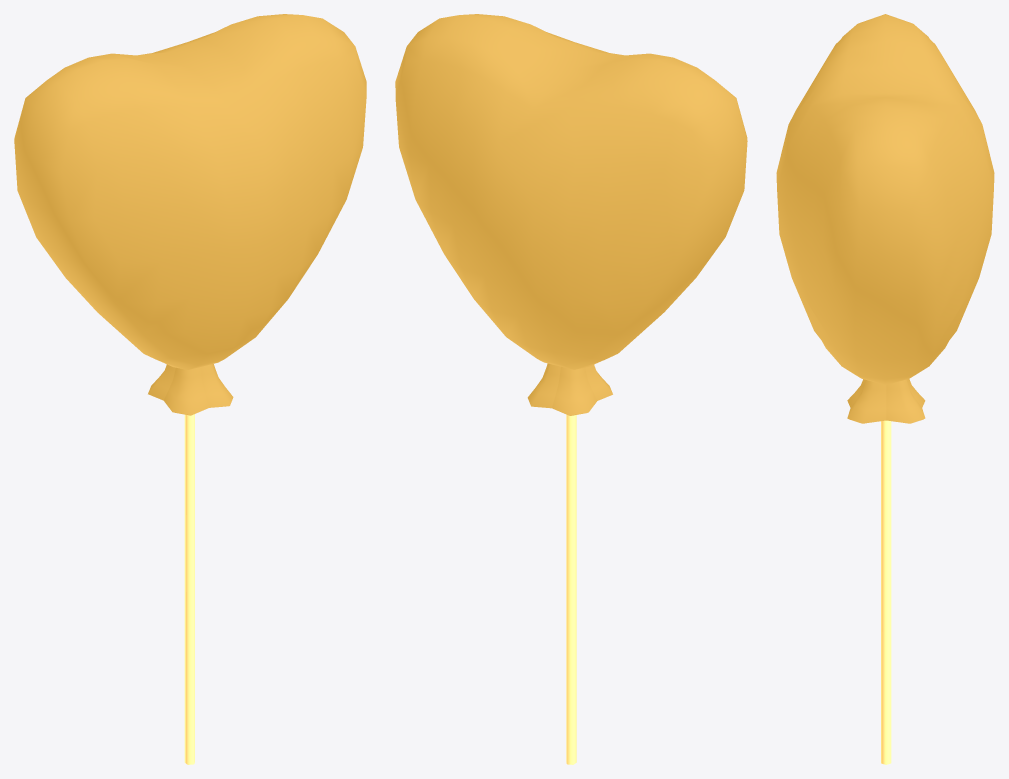
Rendered from ball_A.fbx.
The picture shows the model from 3 angles, left to right: view 1: azimuth 30°, elevation 25°; view 2: azimuth 150°, elevation 25°; view 3: azimuth 270°, elevation 25°; orthographic projection. The views are drawn at different scales.
Parts seen in each view (by area): view 1: ball_A; view 2: ball_A; view 3: ball_A.
Part boxes in pixels (x1,y1,x2,y2): ball_A: [14, 14, 366, 764]; ball_A: [395, 14, 747, 764]; ball_A: [776, 14, 994, 764].
Bounding box in the file's own units: 57.49 × 120 × 33.93.
